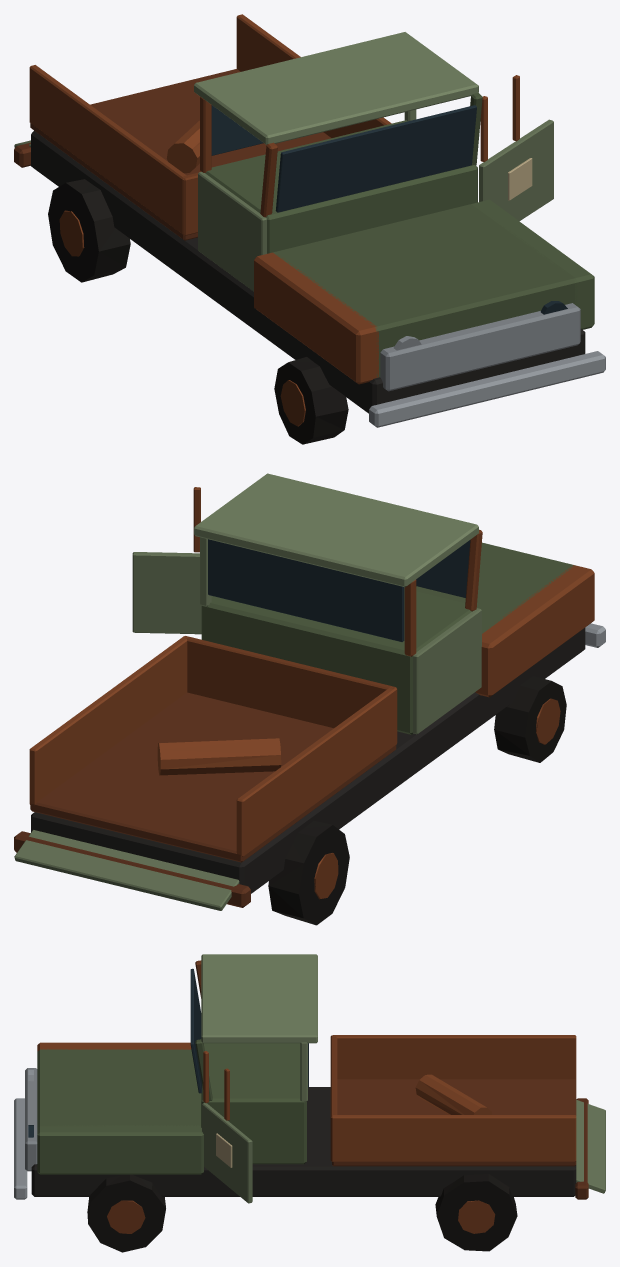
Rendered from truck.glb.
3 renders of one model, top to bottom at view 1: azimuth 30°, elevation 25°; view 2: azimuth 150°, elevation 25°; view 3: azimuth 270°, elevation 25°, orthographic. The views are drawn at different scales.
Visible parts, largest first — view 1: truck; view 2: truck; view 3: truck.
Boxes of the visible parts, x1=… form: truck: x1=14, y1=14, x2=605, y2=444; truck: x1=14, y1=473, x2=605, y2=925; truck: x1=14, y1=954, x2=605, y2=1252.
Size of the model in its own units: 2.78 by 2.08 by 5.33.
